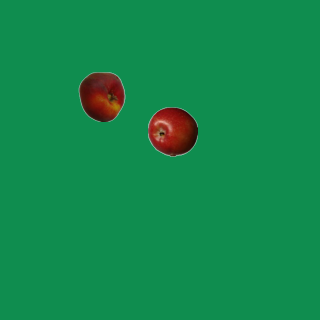Apple Braeburn: (147, 106, 197, 156)
Nectarine Flat: (76, 71, 126, 121)
